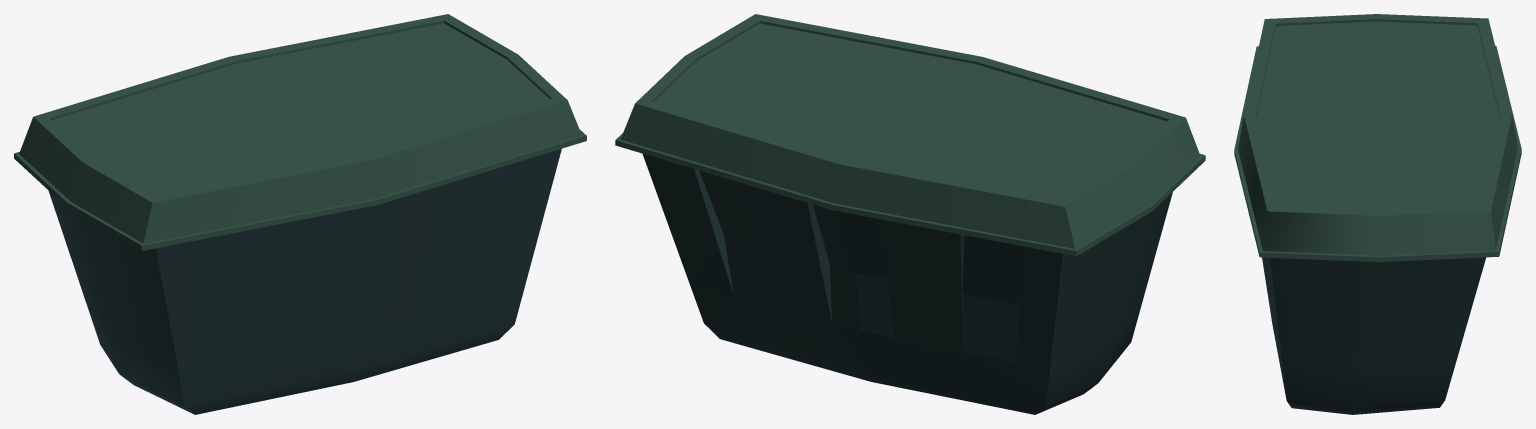
File: Container.fbx
3 views of the same model, side by side, from view 1: azimuth 30°, elevation 25°; view 2: azimuth 150°, elevation 25°; view 3: azimuth 270°, elevation 25° (orthographic). The views are drawn at different scales.
Visible parts, largest first — view 1: Container_Tapa, Container_Base; view 2: Container_Tapa, Container_Base; view 3: Container_Tapa, Container_Base.
Part boxes in pixels (x1,y1,x2,y2): Container_Tapa: [14, 14, 586, 250]; Container_Base: [48, 148, 561, 414]; Container_Tapa: [615, 14, 1205, 256]; Container_Base: [642, 153, 1172, 414]; Container_Tapa: [1234, 14, 1521, 262]; Container_Base: [1262, 257, 1486, 414].
Size of the model in its own units: 7.48 by 3.59 by 4.2.
